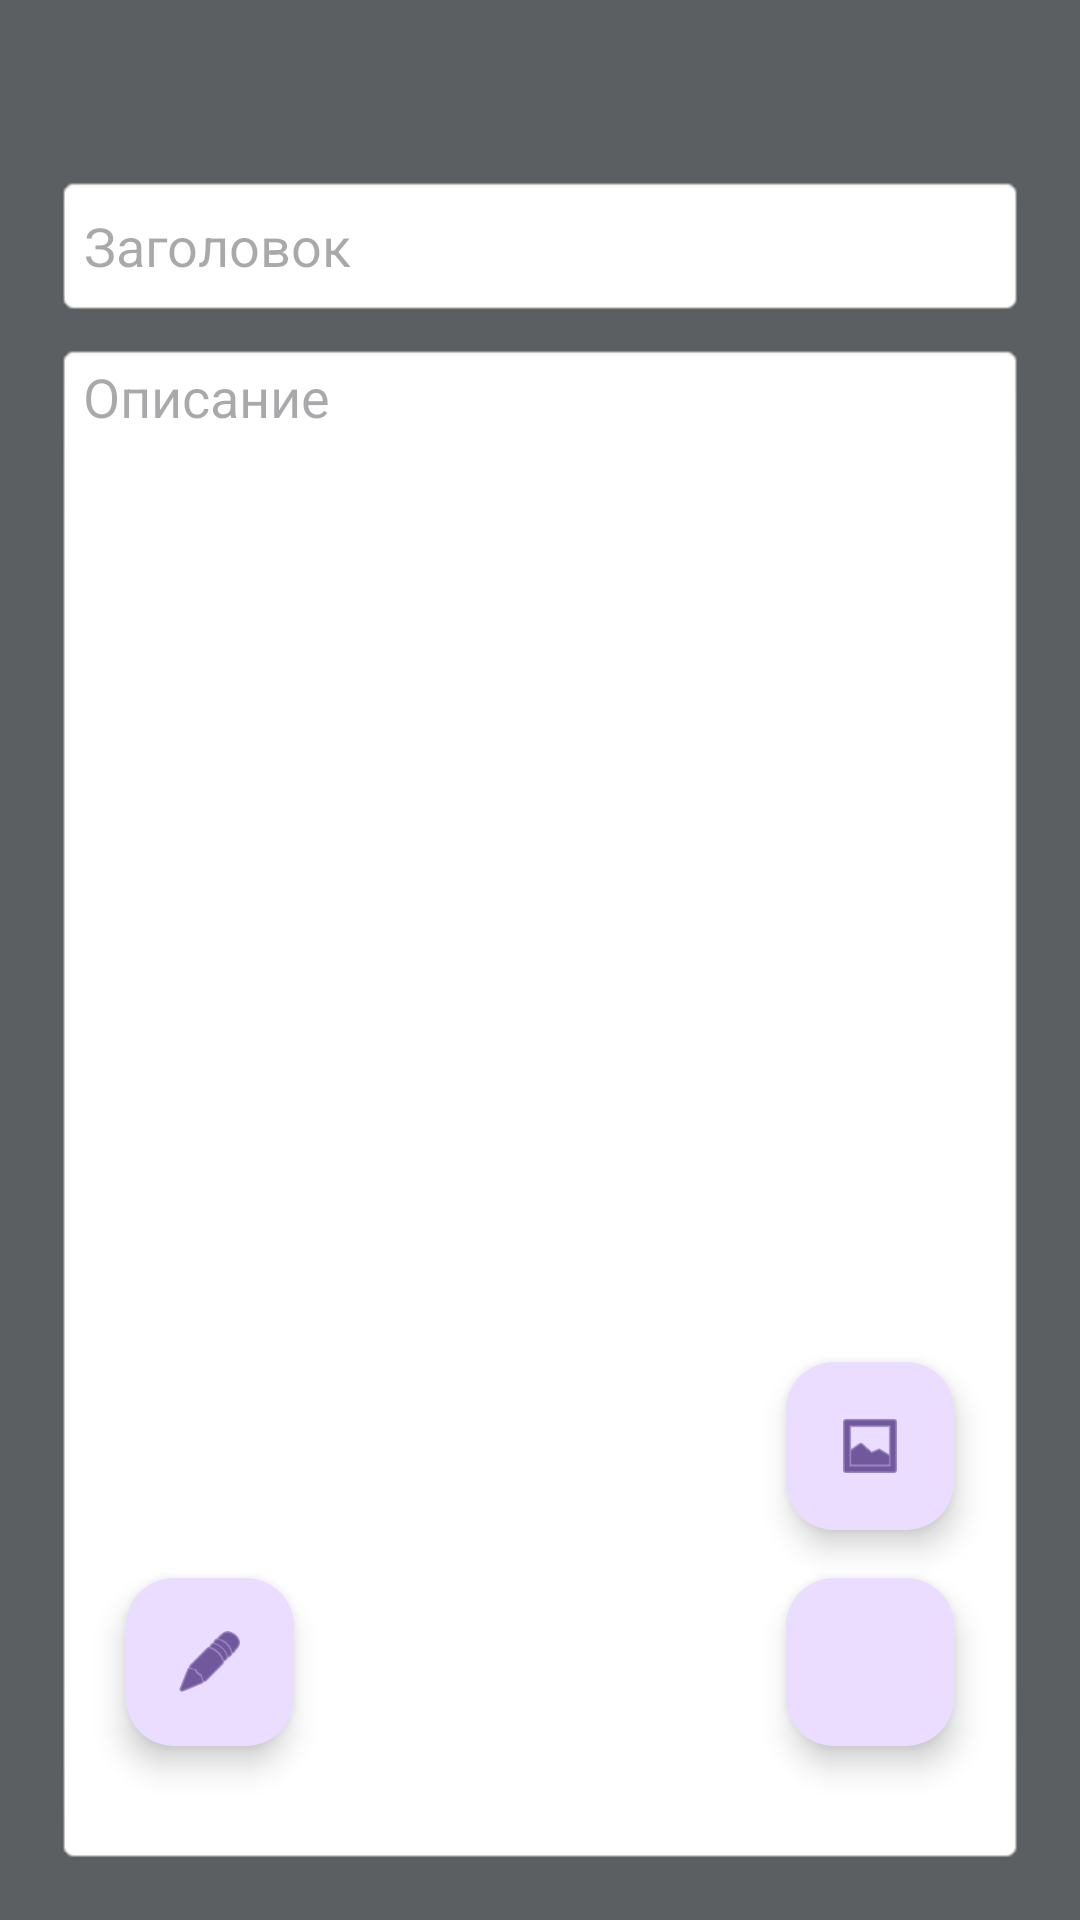

Icons on this 1080px x 1920px Android screen, each with its box as [left=x1, top=y1, right=x2, bottom=y2]:
edit: [left=126, top=1578, right=294, bottom=1746]
gallery: [left=786, top=1362, right=954, bottom=1530]
